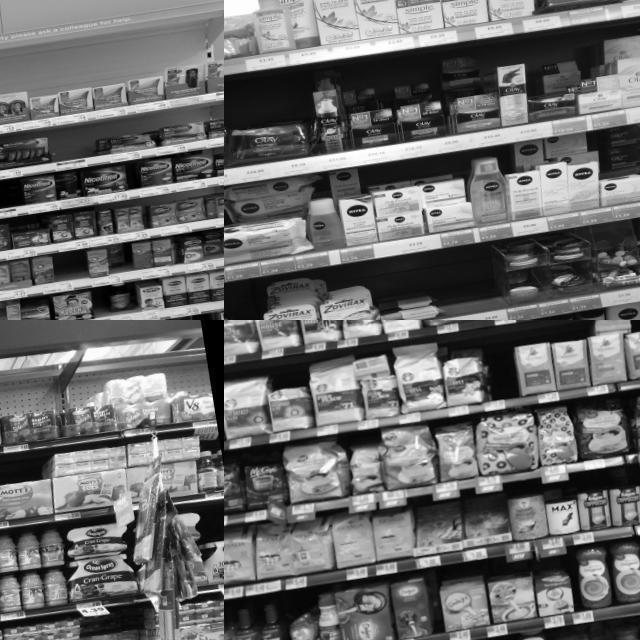empty: (463, 242, 506, 320), (432, 249, 473, 320), (486, 336, 520, 409), (50, 125, 95, 172), (52, 250, 90, 292), (233, 287, 268, 320), (0, 178, 24, 220), (91, 286, 114, 320)
